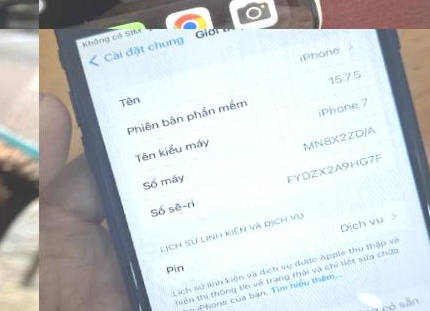scratch: (107, 252, 147, 290), (416, 195, 430, 236), (122, 298, 156, 311)
